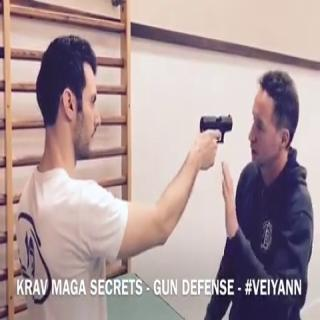gun: (197, 111, 234, 162)
